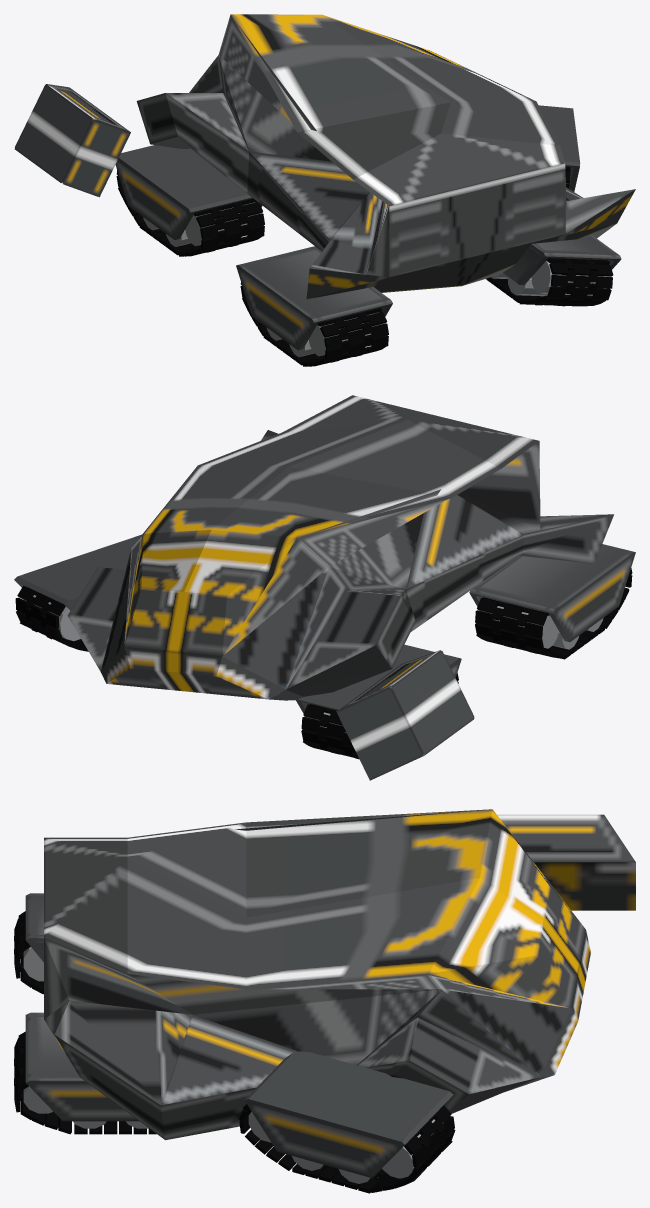
File: Simulation-ruin.fbx
3 views of the same model, one above another, from view 1: azimuth 30°, elevation 25°; view 2: azimuth 150°, elevation 25°; view 3: azimuth 270°, elevation 25° (orthographic). The views are drawn at different scales.
Visible parts, largest first — view 1: cube_selection, cube_6, cube_5, cube_4, cube_1, cube_2, cube, cube_3, cube_7, cylinder_1; view 2: cube_selection, cube_6, cube_4, cube_2, cube_7, cube_8, cube_1, cube_5; view 3: cube_selection, cube_7, cube_6, cube_3, cube_8, cube, cube_4, cube_2, cylinder_12.
Part boxes in pixels (left/top/right/bottom): cube_selection: left=136, top=14, right=635, bottom=299; cube_6: left=14, top=84, right=130, bottom=197; cube_5: left=115, top=145, right=262, bottom=239; cube_4: left=236, top=246, right=392, bottom=350; cube_1: left=116, top=170, right=264, bottom=256; cube_2: left=240, top=282, right=388, bottom=366; cube: left=486, top=258, right=613, bottom=306; cube_3: left=503, top=235, right=621, bottom=285; cube_7: left=539, top=105, right=580, bottom=191; cylinder_1: left=531, top=261, right=607, bottom=295; cube_selection: left=67, top=395, right=613, bottom=700; cube_6: left=336, top=650, right=474, bottom=780; cube_4: left=469, top=544, right=635, bottom=642; cube_2: left=475, top=568, right=632, bottom=659; cube_7: left=14, top=534, right=141, bottom=610; cube_8: left=15, top=585, right=88, bottom=651; cube_1: left=301, top=673, right=458, bottom=759; cube_5: left=296, top=644, right=461, bottom=716; cube_selection: left=44, top=809, right=590, bottom=1140; cube_7: left=244, top=1051, right=453, bottom=1177; cube_6: left=497, top=814, right=635, bottom=910; cube_3: left=25, top=1012, right=193, bottom=1121; cube_8: left=239, top=1104, right=455, bottom=1193; cube: left=14, top=1031, right=156, bottom=1134; cube_4: left=25, top=893, right=43, bottom=962; cube_2: left=14, top=911, right=43, bottom=994; cylinder_12: left=382, top=1119, right=443, bottom=1178.
Size of the model in its own units: 748 by 301 by 736.
4 materials, 4 textured.
